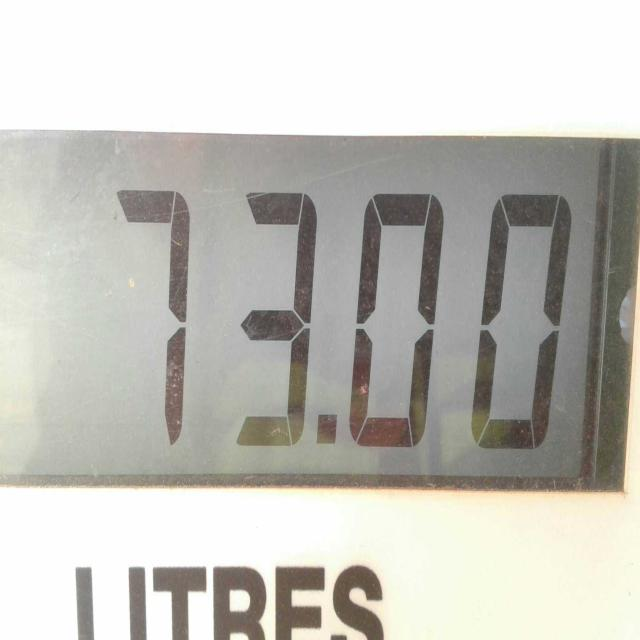.: (312, 388, 345, 469)
0: (454, 158, 574, 482), (336, 165, 446, 465)
3: (222, 169, 324, 475)
7: (98, 179, 208, 457)
